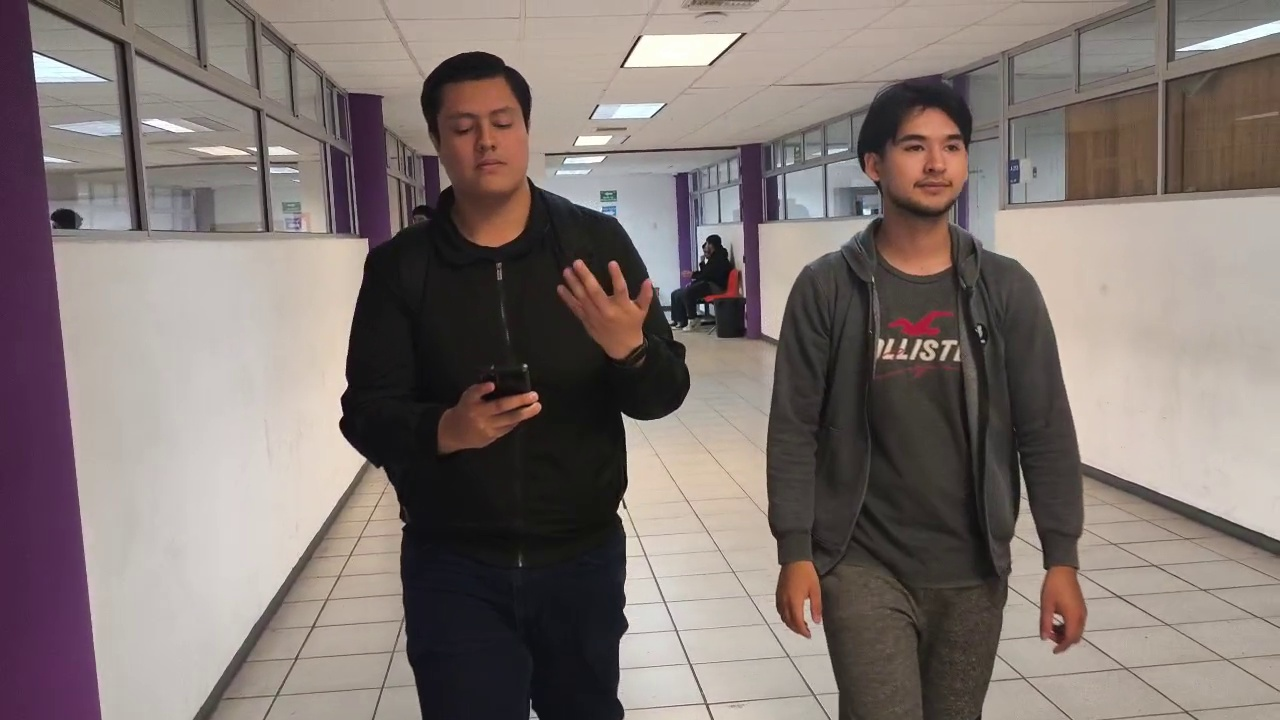mixto2: (471, 357, 536, 407)
